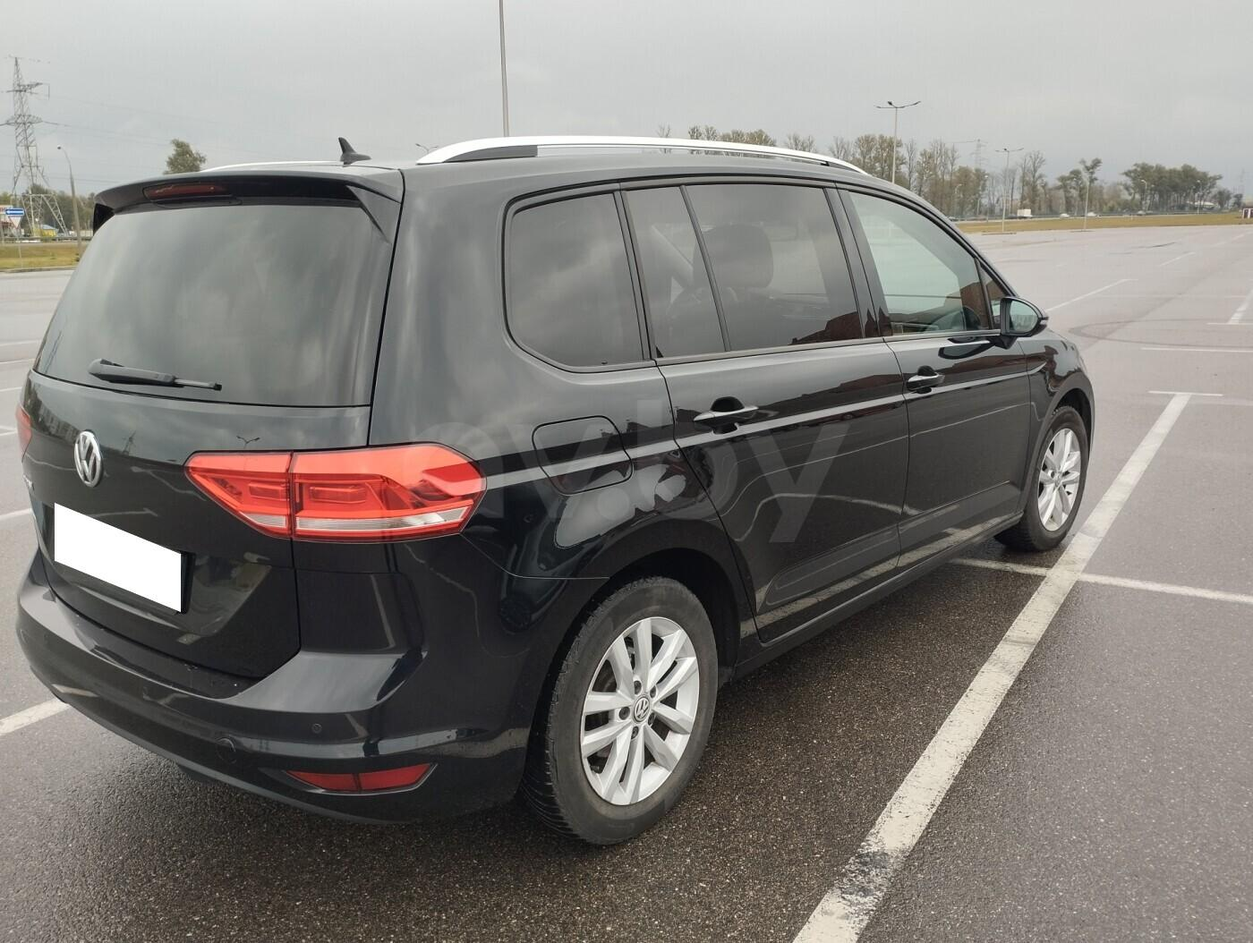Touran_2015: (13, 141, 1100, 850)
